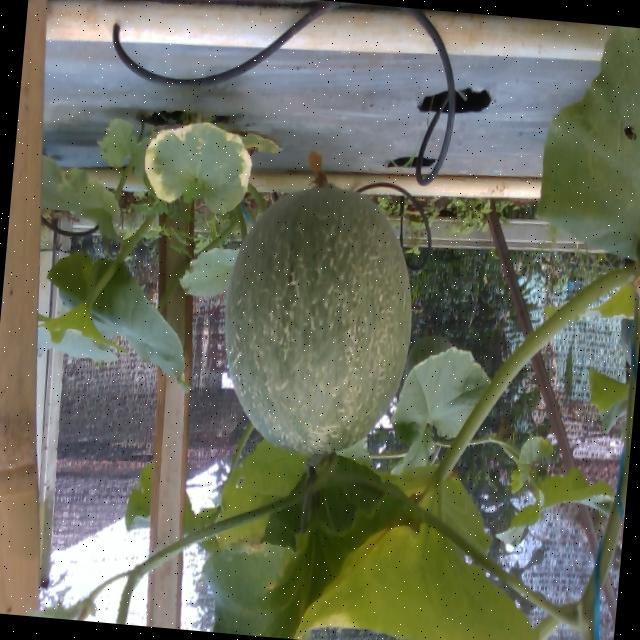melon: (222, 185, 410, 453)
